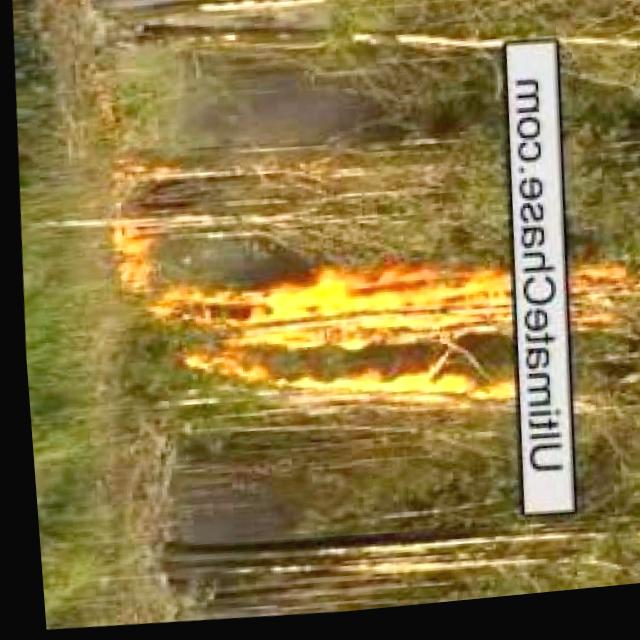helmet: (147, 242, 512, 447), (554, 267, 640, 350), (106, 223, 141, 298)
